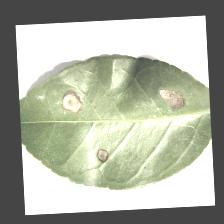canker: (56, 74, 176, 168)
